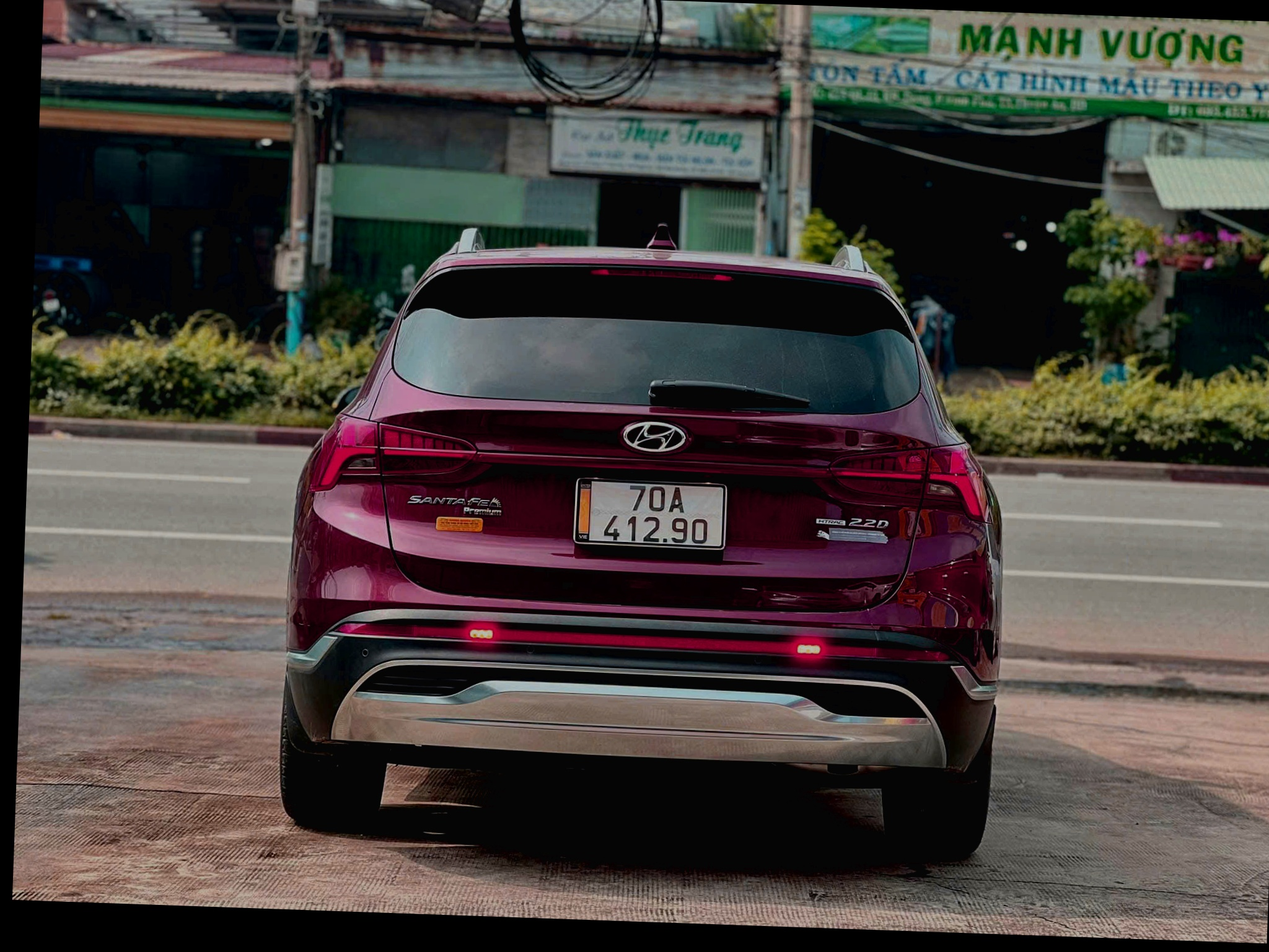Bien-so: (590, 474, 732, 551)
